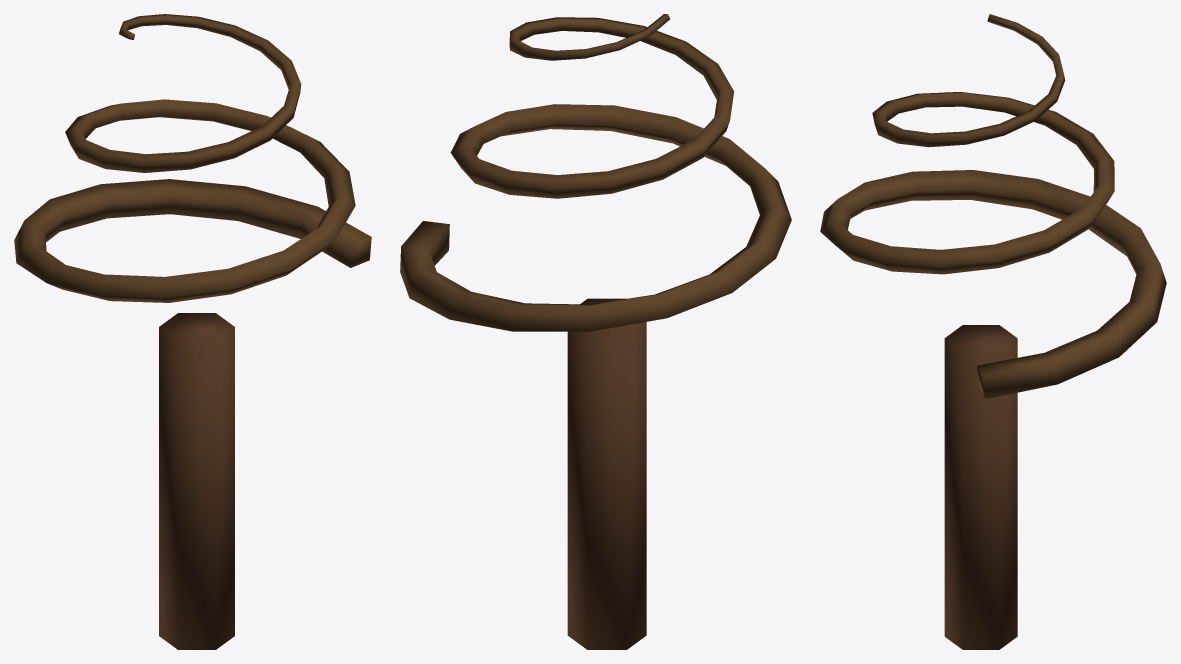
The model's file is leather_whip.glb.
The picture shows the model from 3 angles, left to right: view 1: azimuth 30°, elevation 25°; view 2: azimuth 150°, elevation 25°; view 3: azimuth 270°, elevation 25°; orthographic projection. The views are drawn at different scales.
Parts seen in each view (by area): view 1: leather_whip_v0; view 2: leather_whip_v0; view 3: leather_whip_v0.
Part boxes in pixels (bbox=[...]): leather_whip_v0: bbox=[14, 14, 371, 649]; leather_whip_v0: bbox=[400, 14, 791, 649]; leather_whip_v0: bbox=[820, 14, 1166, 649].
Bounding box in the file's own units: 0.2022 × 0.3579 × 0.1896.
